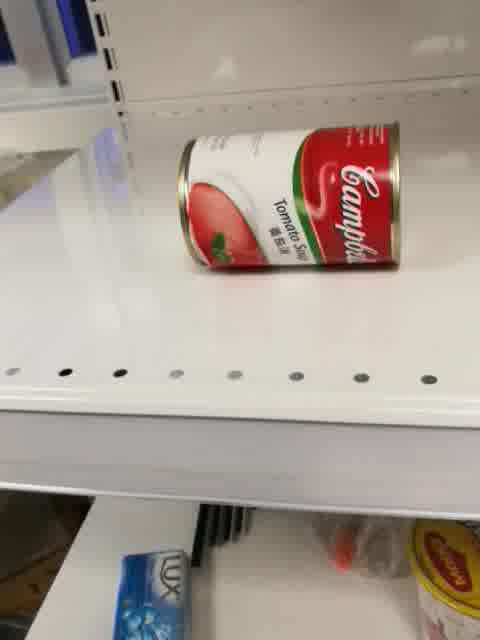tomatosoup: (176, 117, 405, 269)
